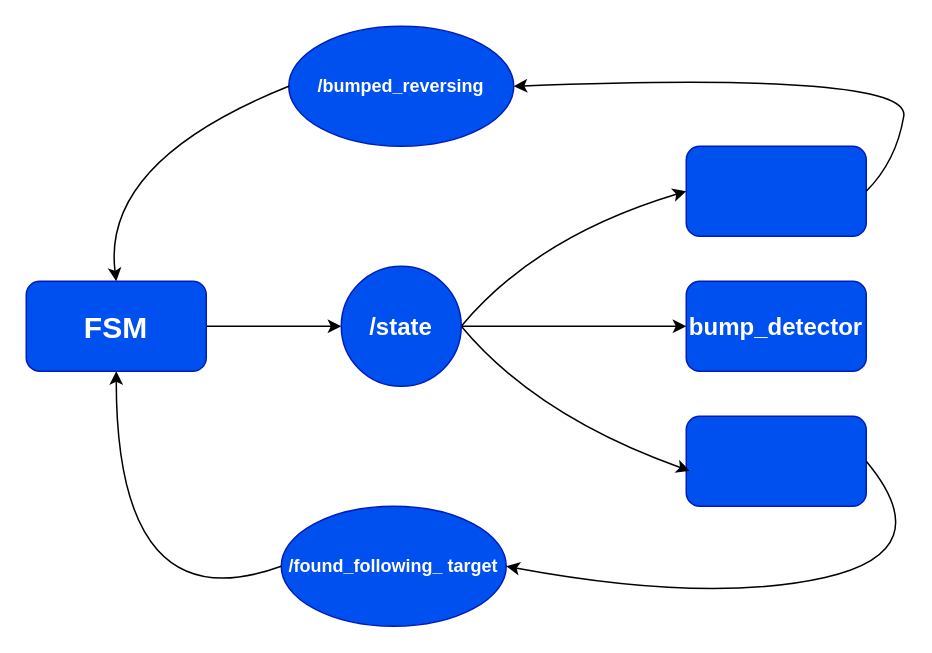
The diagram is 932 pixels wide and 653 high, and some of its shapes have lost their labels. Here are the shapes that lost their labels. From the top down, the centre of each, then its label:
At [775,190]: "drive_arch".
At [775,460]: "people_follow".
